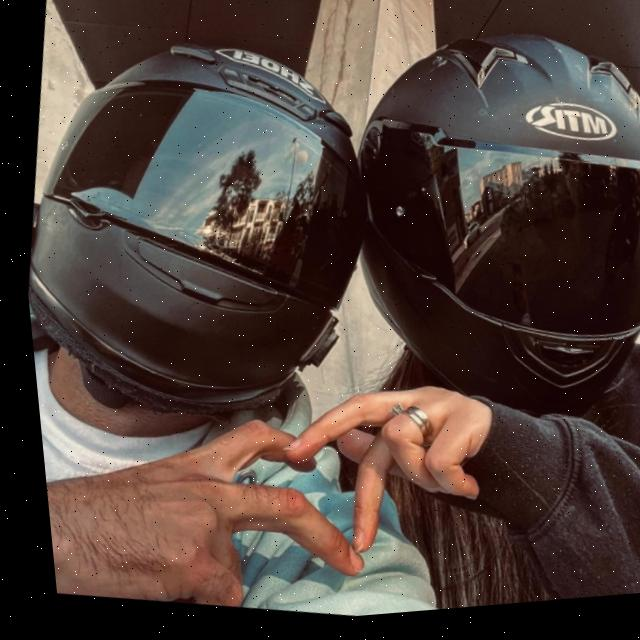helmet: (2, 1, 411, 465), (298, 0, 640, 462)
